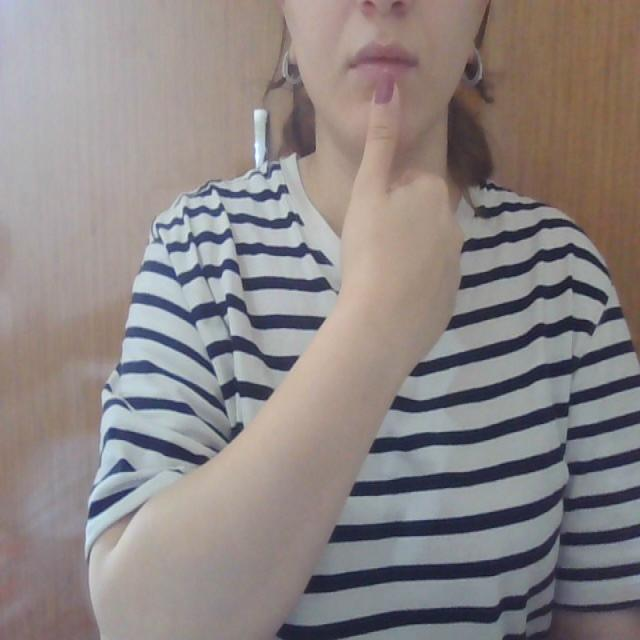Baba: (331, 29, 425, 175)
